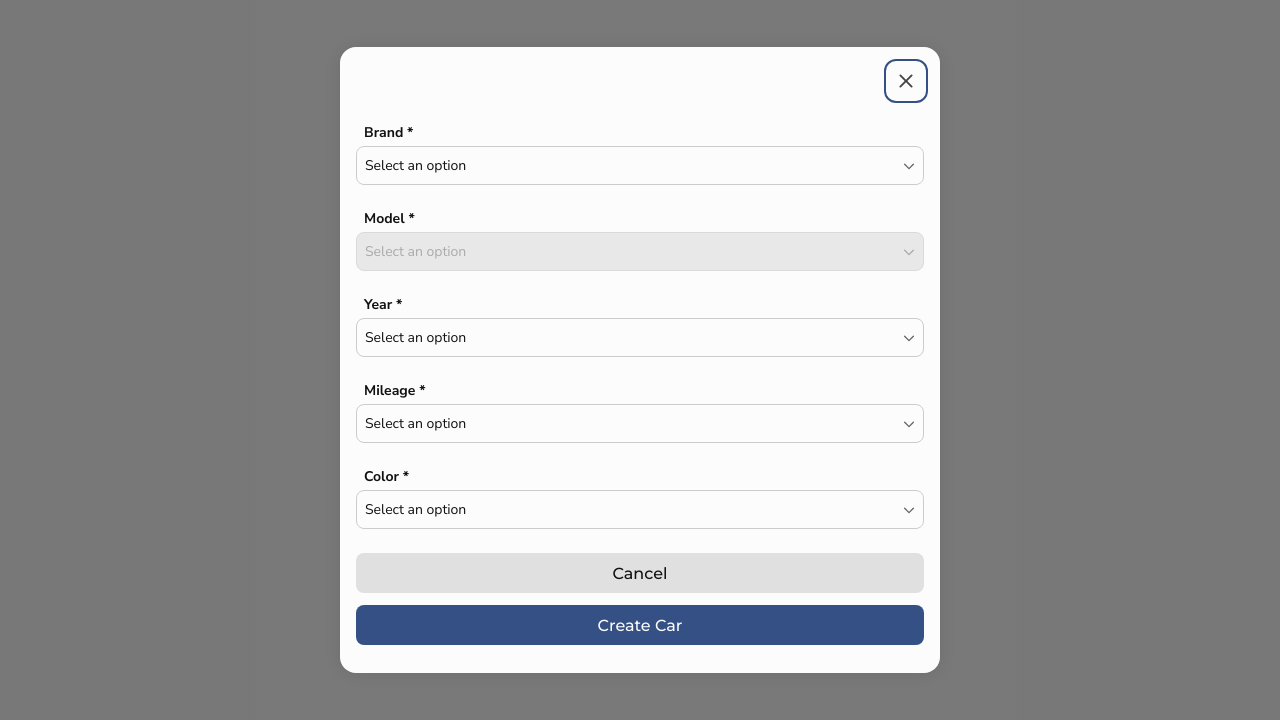
CreateCarModal Integration › should load models for the selected brand
Select "Volkswagen" in the dropdown labelled "Brand *": (640, 166) [356,146,924,185]
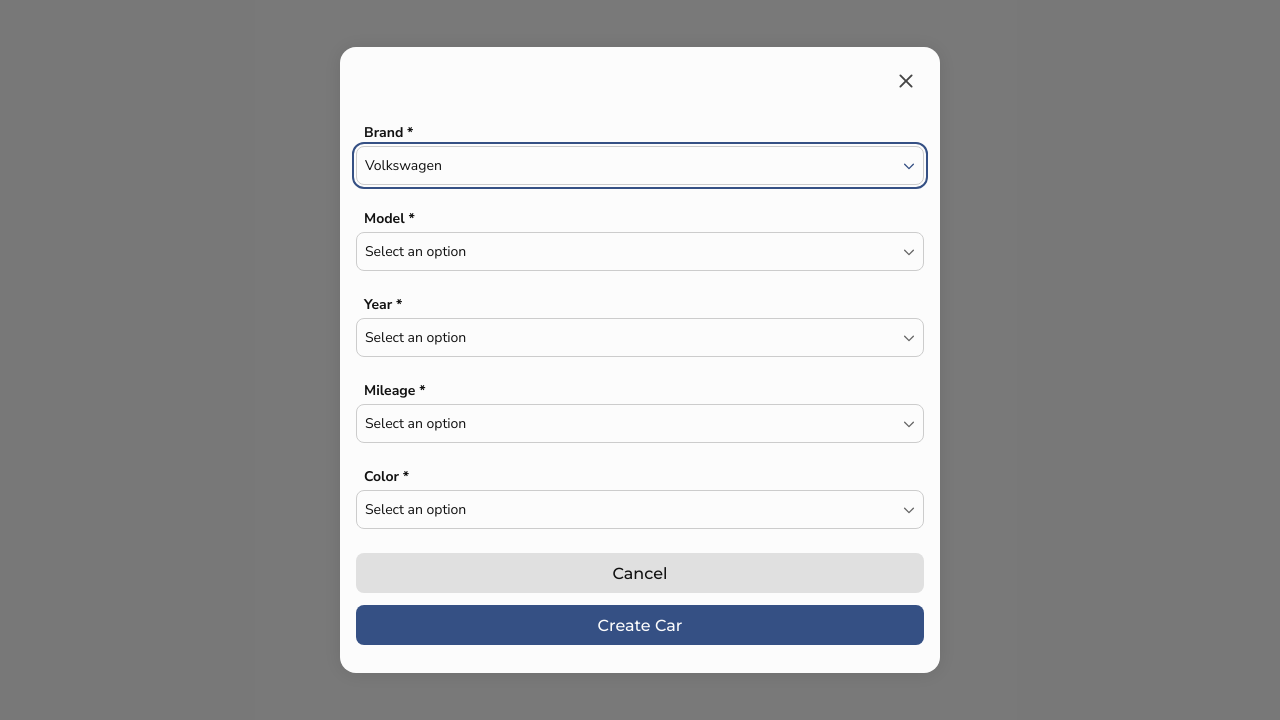
Expected: the dropdown labelled "Model *" is enabled, [356,232,924,271]
